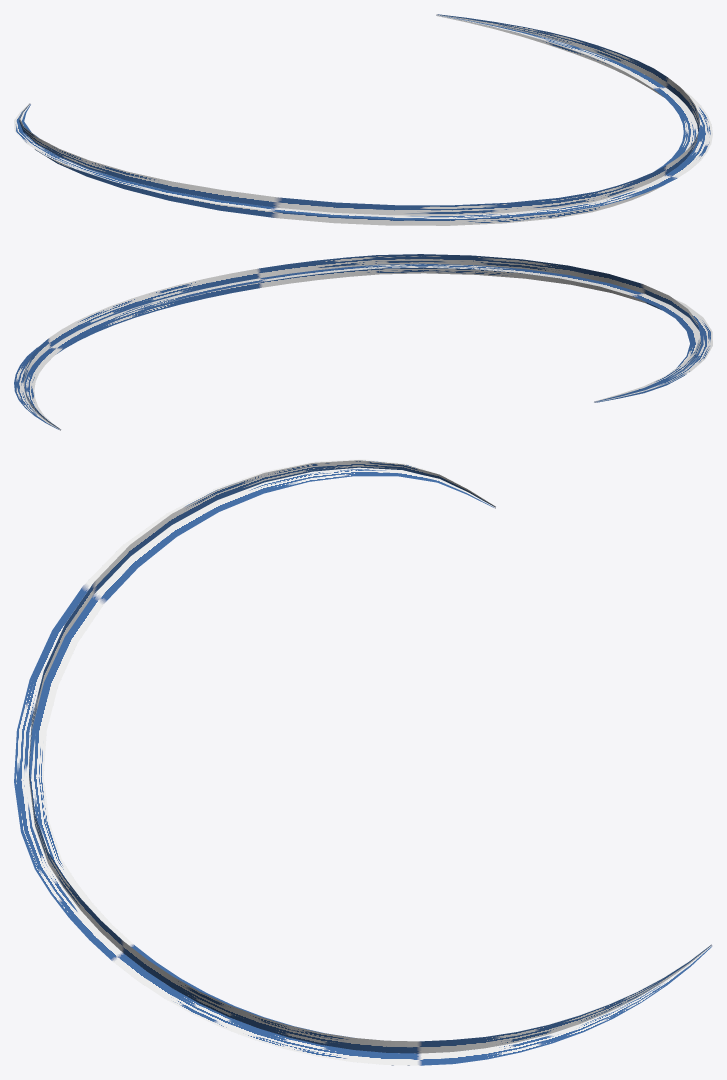
The model's file is Rui_Line5.fbx.
The picture shows the model from 3 angles, top to bottom: view 1: azimuth 30°, elevation 25°; view 2: azimuth 150°, elevation 25°; view 3: azimuth 270°, elevation 25°; orthographic projection. The views are drawn at different scales.
Parts seen in each view (by area): view 1: SM_e_Plc_P1007_Line005; view 2: SM_e_Plc_P1007_Line005; view 3: SM_e_Plc_P1007_Line005.
Part boxes in pixels (<box>): SM_e_Plc_P1007_Line005: <box>14,14,712,225</box>; SM_e_Plc_P1007_Line005: <box>14,254,712,430</box>; SM_e_Plc_P1007_Line005: <box>14,459,712,1065</box>.
Size of the model in its own units: 352 by 67.49 by 236.
